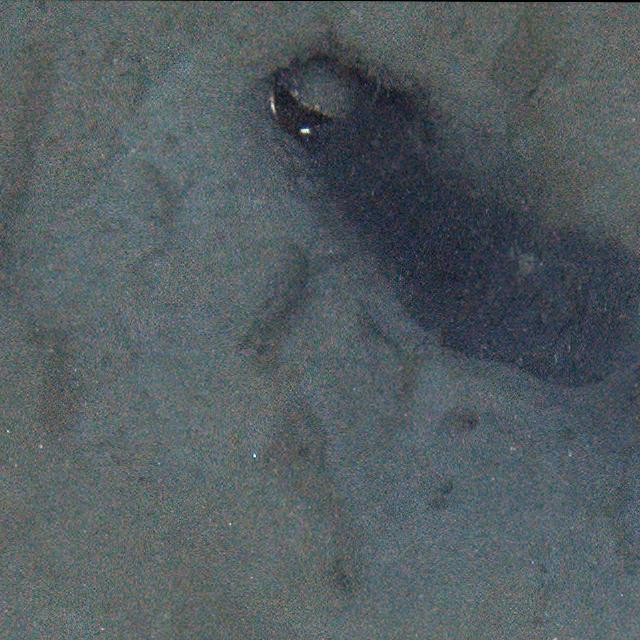crab: (258, 58, 368, 136)
